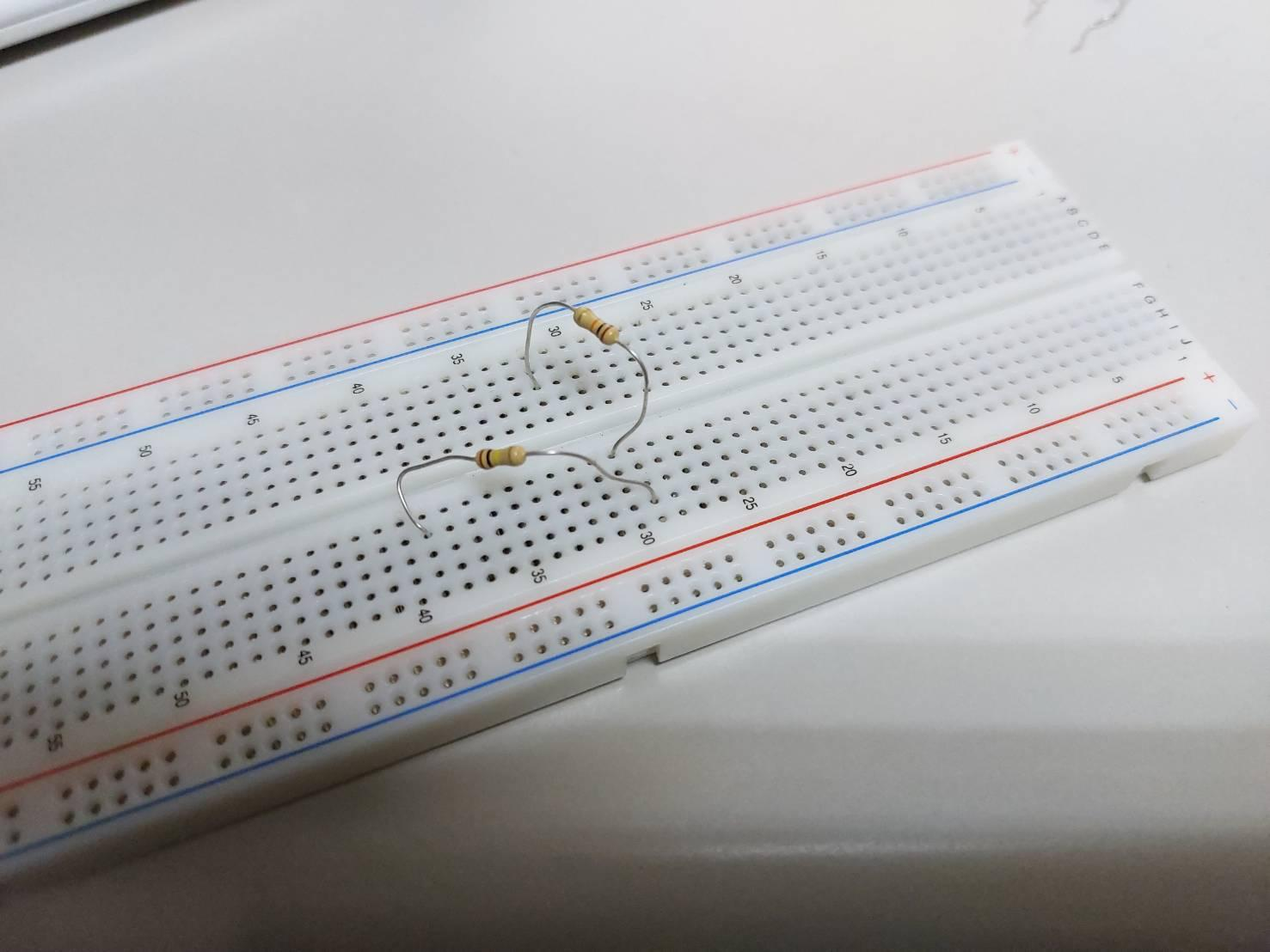resistor: (572, 306, 619, 344), (474, 445, 529, 469)
